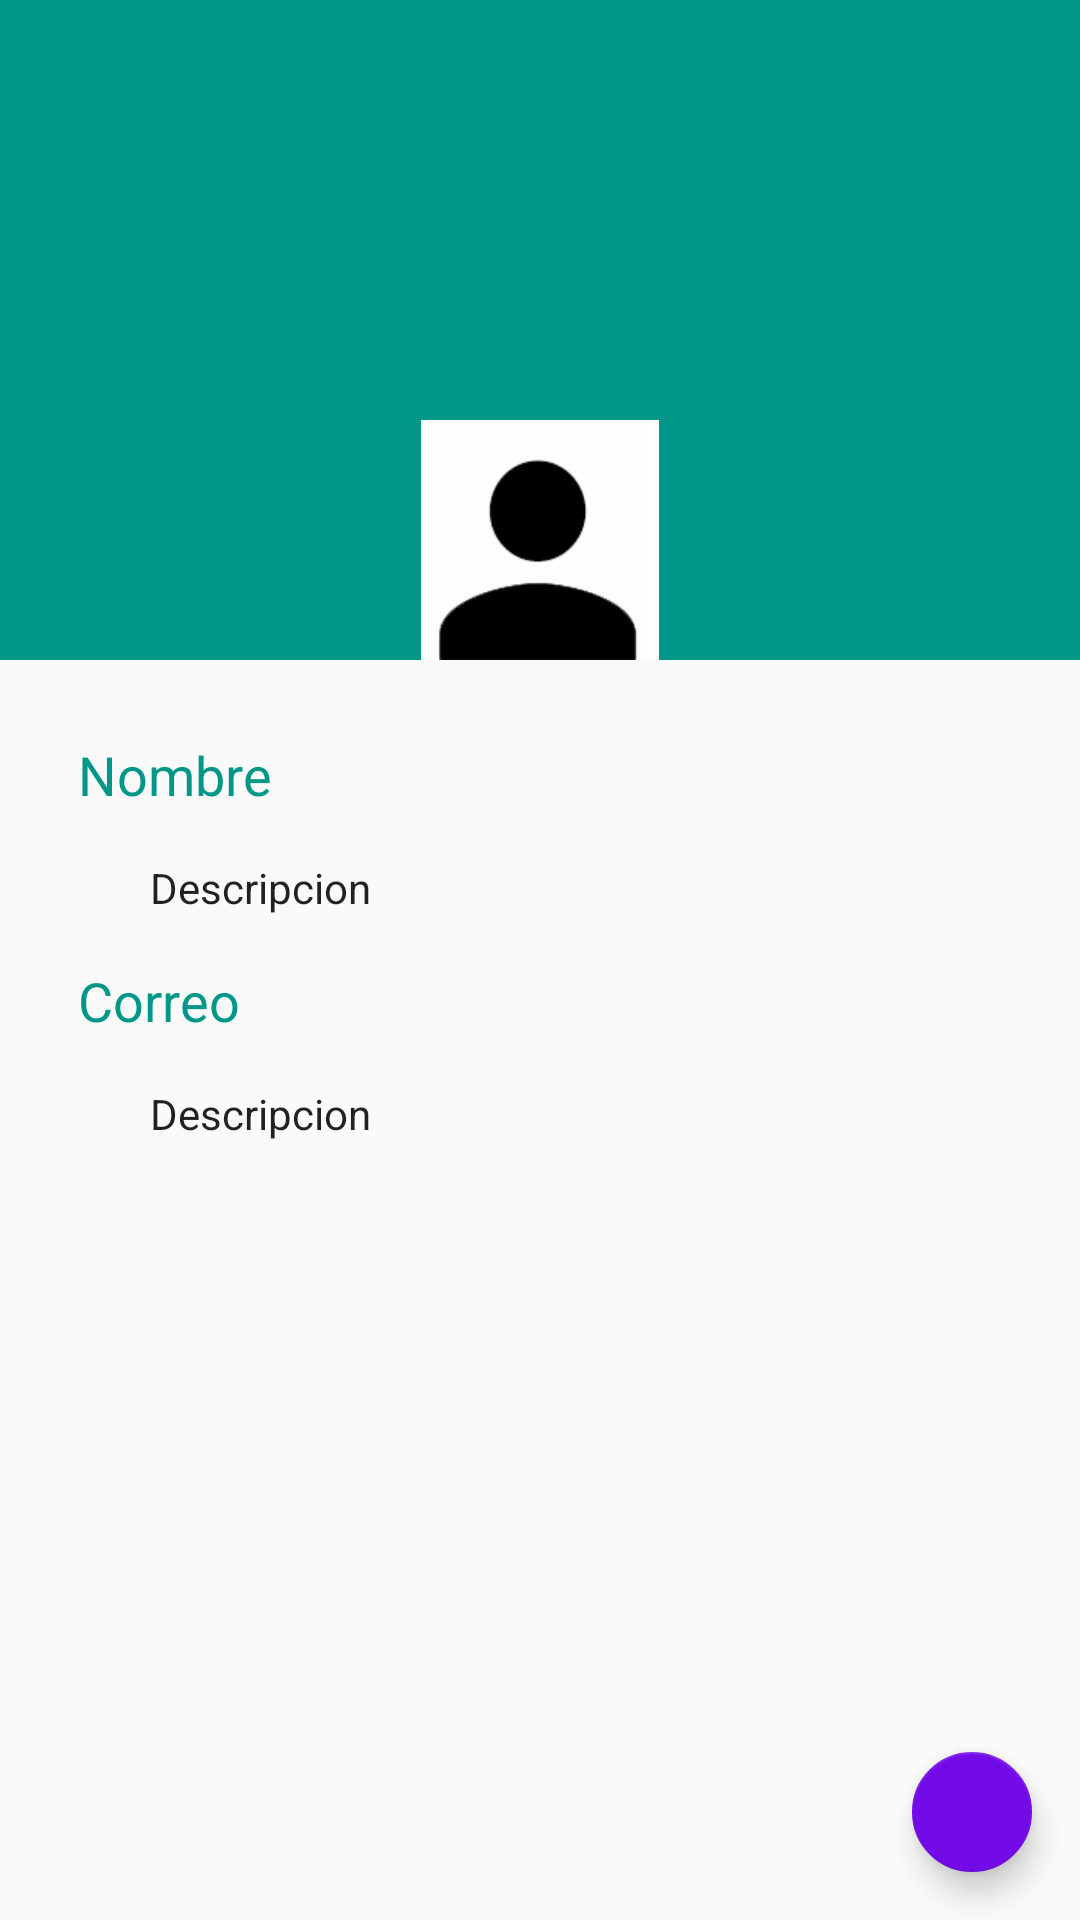

Where icons sit on this 1080px x 1920px app screen, as (x1, y1, x2, y2):
perfilaccount: (421, 420, 659, 660)
